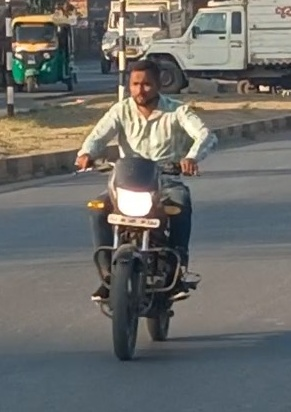BikeWithRider: (72, 59, 220, 365)
NoHelmet: (126, 60, 164, 107)
